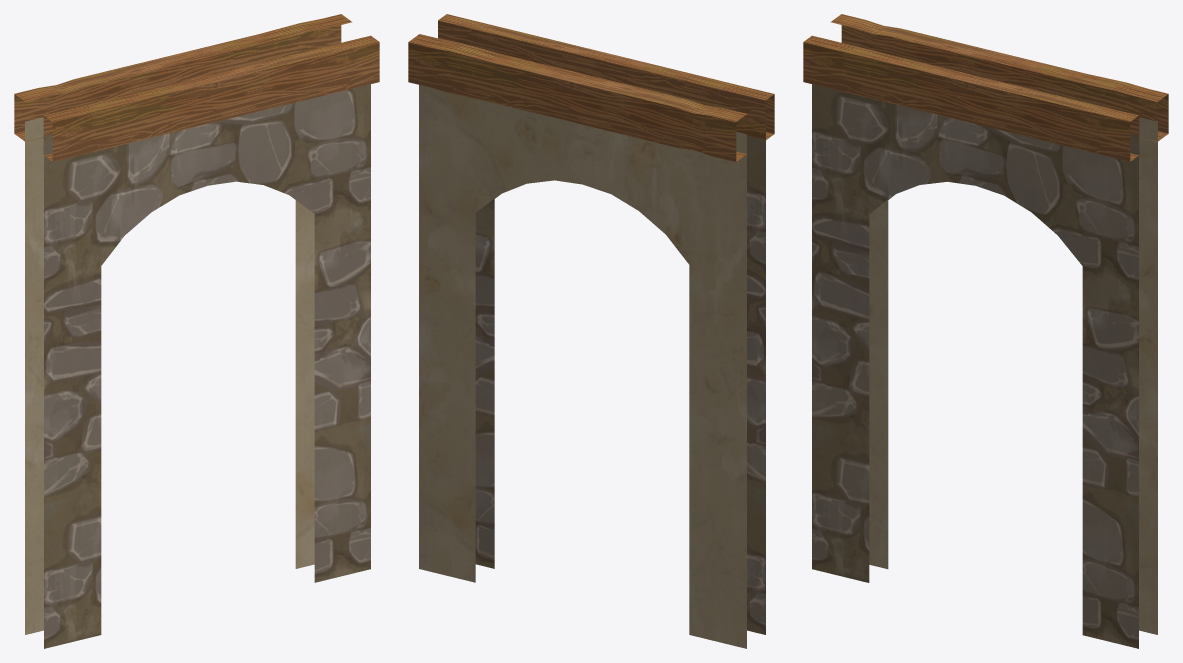
The model's file is Wall_UnevenBrick_Door_Round.gltf.
3 views of the same model, side by side, from view 1: azimuth 30°, elevation 25°; view 2: azimuth 150°, elevation 25°; view 3: azimuth 330°, elevation 25° (orthographic).
Visible parts, largest first — view 1: Wall_UnevenBrick_Door_Round; view 2: Wall_UnevenBrick_Door_Round; view 3: Wall_UnevenBrick_Door_Round.
Part boxes in pixels (x1,y1,x2,y2): Wall_UnevenBrick_Door_Round: [14, 14, 379, 648]; Wall_UnevenBrick_Door_Round: [408, 14, 774, 648]; Wall_UnevenBrick_Door_Round: [803, 14, 1168, 648].
Size of the model in its own units: 2 by 3.12 by 0.4065.
Materials: 3 (3 with a texture image).
